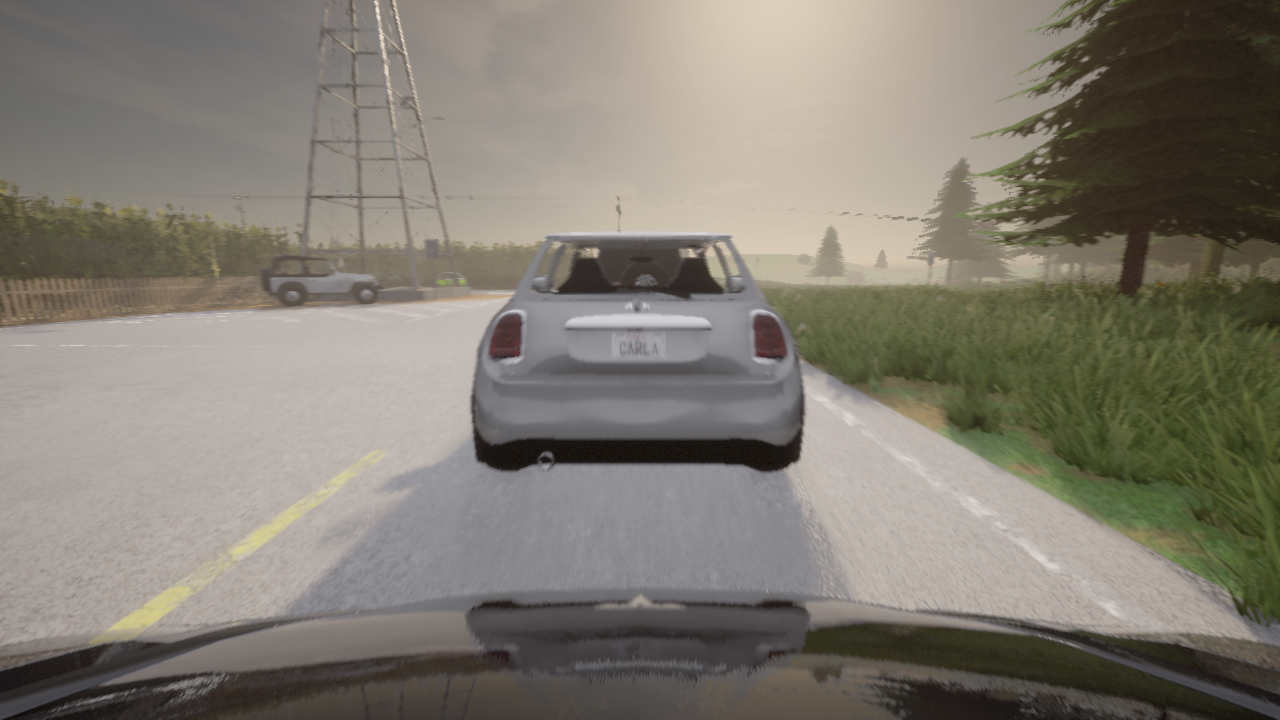cyclist: (0, 588, 1279, 719), (471, 231, 804, 471), (260, 255, 383, 306), (435, 272, 467, 286)
